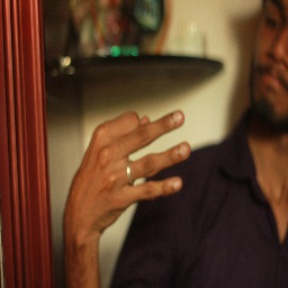K: (66, 110, 195, 227)
